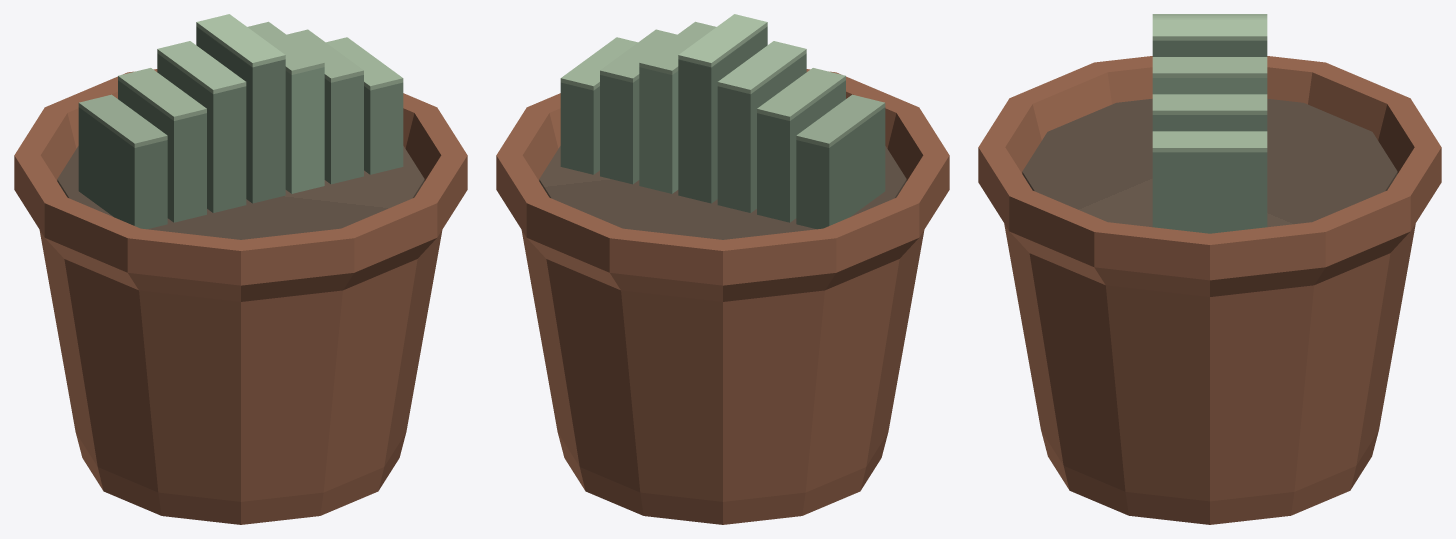
Rendered from new-truncata-haw.glb.
3 views of the same model, side by side, from view 1: azimuth 30°, elevation 25°; view 2: azimuth 150°, elevation 25°; view 3: azimuth 270°, elevation 25° (orthographic). The views are drawn at different scales.
Parts seen in each view (by area): view 1: new-truncata-haw/review-terra-vessel, new-truncata-haw/review-rooted-soil, new-truncata-haw/fan-thick-leaf-001, new-truncata-haw/fan-thick-leaf-007, new-truncata-haw/fan-thick-leaf-005, new-truncata-haw/fan-thick-leaf-003, new-truncata-haw/fan-thick-leaf-009, new-truncata-haw/fan-thick-leaf-011, new-truncata-haw/fan-thick-leaf-013, new-truncata-haw/flat-leaf-window-008, new-truncata-haw/flat-leaf-window-002, new-truncata-haw/flat-leaf-window-006 (+4 smaller); view 2: new-truncata-haw/review-terra-vessel, new-truncata-haw/review-rooted-soil, new-truncata-haw/fan-thick-leaf-001, new-truncata-haw/fan-thick-leaf-007, new-truncata-haw/fan-thick-leaf-005, new-truncata-haw/fan-thick-leaf-003, new-truncata-haw/fan-thick-leaf-009, new-truncata-haw/fan-thick-leaf-011, new-truncata-haw/fan-thick-leaf-013, new-truncata-haw/flat-leaf-window-008, new-truncata-haw/flat-leaf-window-002, new-truncata-haw/flat-leaf-window-006 (+4 smaller); view 3: new-truncata-haw/review-terra-vessel, new-truncata-haw/review-rooted-soil, new-truncata-haw/fan-thick-leaf-013, new-truncata-haw/flat-leaf-window-008, new-truncata-haw/flat-leaf-window-014, new-truncata-haw/flat-leaf-window-010, new-truncata-haw/flat-leaf-window-012, new-truncata-haw/fan-thick-leaf-007, new-truncata-haw/fan-thick-leaf-009, new-truncata-haw/fan-thick-leaf-011.
Boxes of the visible parts, x1,y1,x2,y2 form: new-truncata-haw/review-terra-vessel: (14,69,467,524); new-truncata-haw/review-rooted-soil: (57,146,424,239); new-truncata-haw/fan-thick-leaf-001: (78,107,167,229); new-truncata-haw/fan-thick-leaf-007: (196,26,285,203); new-truncata-haw/fan-thick-leaf-005: (157,53,246,212); new-truncata-haw/fan-thick-leaf-003: (118,80,206,222); new-truncata-haw/fan-thick-leaf-009: (285,67,324,193); new-truncata-haw/fan-thick-leaf-011: (324,75,363,184); new-truncata-haw/fan-thick-leaf-013: (364,82,403,174); new-truncata-haw/flat-leaf-window-008: (196,14,285,67); new-truncata-haw/flat-leaf-window-002: (78,94,167,147); new-truncata-haw/flat-leaf-window-006: (157,41,246,94); new-truncata-haw/review-terra-vessel: (496,69,949,524); new-truncata-haw/review-rooted-soil: (539,146,906,239); new-truncata-haw/fan-thick-leaf-001: (796,107,885,229); new-truncata-haw/fan-thick-leaf-007: (678,26,767,203); new-truncata-haw/fan-thick-leaf-005: (717,53,806,212); new-truncata-haw/fan-thick-leaf-003: (757,80,845,222); new-truncata-haw/fan-thick-leaf-009: (639,67,678,193); new-truncata-haw/fan-thick-leaf-011: (600,75,639,184); new-truncata-haw/fan-thick-leaf-013: (560,82,599,174); new-truncata-haw/flat-leaf-window-008: (678,14,767,67); new-truncata-haw/flat-leaf-window-002: (796,94,885,147); new-truncata-haw/flat-leaf-window-006: (717,41,806,94); new-truncata-haw/review-terra-vessel: (978,56,1441,524); new-truncata-haw/review-rooted-soil: (1022,98,1397,227); new-truncata-haw/fan-thick-leaf-013: (1152,152,1267,233); new-truncata-haw/flat-leaf-window-008: (1152,19,1267,40); new-truncata-haw/flat-leaf-window-014: (1152,131,1267,152); new-truncata-haw/flat-leaf-window-010: (1152,57,1267,77); new-truncata-haw/flat-leaf-window-012: (1152,94,1267,114); new-truncata-haw/fan-thick-leaf-007: (1152,40,1267,56); new-truncata-haw/fan-thick-leaf-009: (1152,78,1267,94); new-truncata-haw/fan-thick-leaf-011: (1152,115,1267,131).
Bounding box in the file's own units: 0.19 × 0.194 × 0.19.
4 materials, 4 textured.
